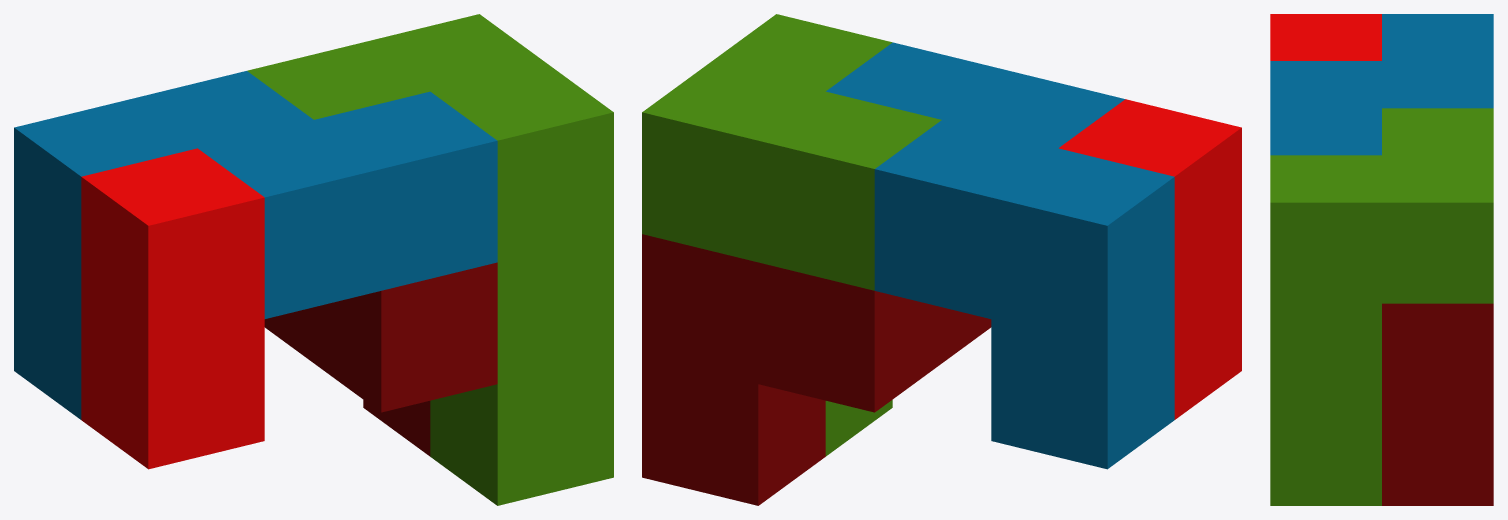
3 renders of one model, left to right at view 1: azimuth 30°, elevation 25°; view 2: azimuth 150°, elevation 25°; view 3: azimuth 270°, elevation 25°, orthographic. The views are drawn at different scales.
Parts seen in each view (by area): view 1: mergedBlocks(Clone); view 2: mergedBlocks(Clone); view 3: mergedBlocks(Clone).
Part boxes in pixels (x1,y1,x2,y2): mergedBlocks(Clone): [14, 14, 613, 505]; mergedBlocks(Clone): [642, 14, 1241, 505]; mergedBlocks(Clone): [1270, 14, 1493, 505].
Size of the model in its own units: 4 by 3 by 2.
Materials: 4 (4 with a texture image).
